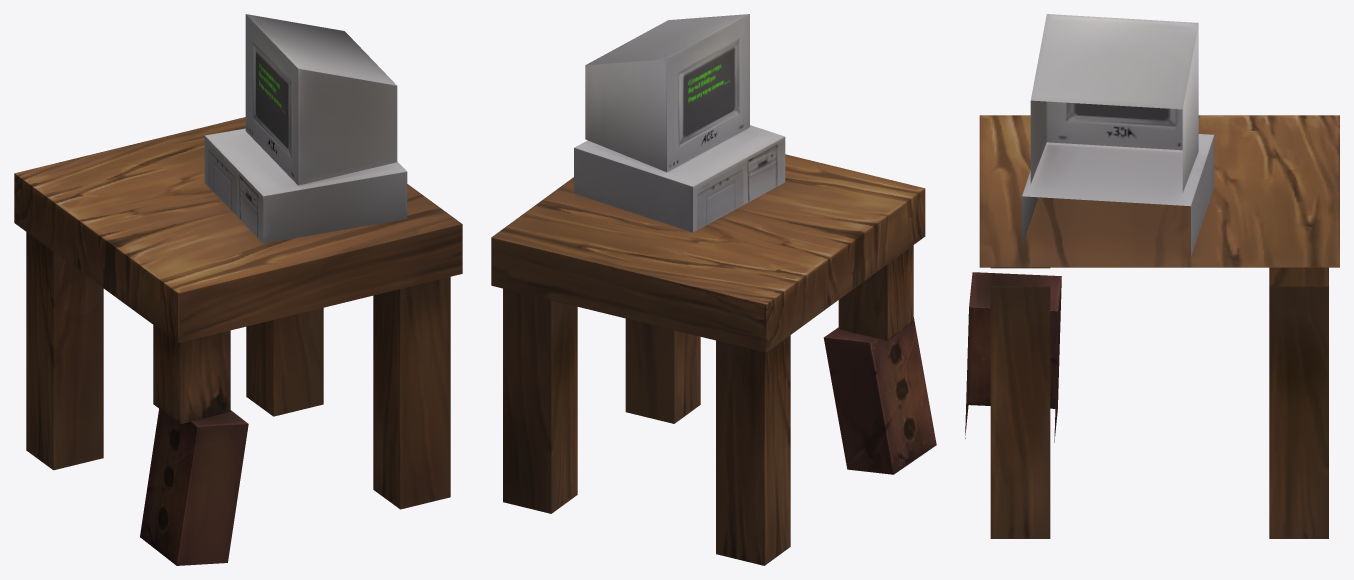
File: computer_homeless.FBX
The picture shows the model from 3 angles, left to right: view 1: azimuth 30°, elevation 25°; view 2: azimuth 150°, elevation 25°; view 3: azimuth 270°, elevation 25°; orthographic projection. The views are drawn at different scales.
Visible parts, largest first — view 1: computer_homeless; view 2: computer_homeless; view 3: computer_homeless.
Part boxes in pixels (bbox=[...]): computer_homeless: bbox=[14, 14, 462, 565]; computer_homeless: bbox=[491, 14, 936, 565]; computer_homeless: bbox=[965, 14, 1339, 538].
Size of the model in its own units: 2.59 by 3.76 by 2.63.
1 material, 1 textured.
